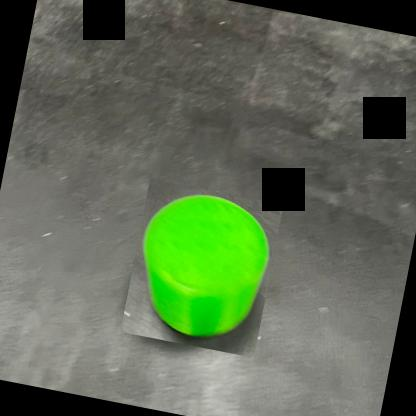green cylinder: (120, 178, 284, 358)
